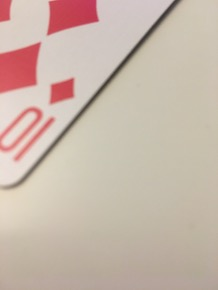TenOfDiamonds: (1, 1, 180, 192)
